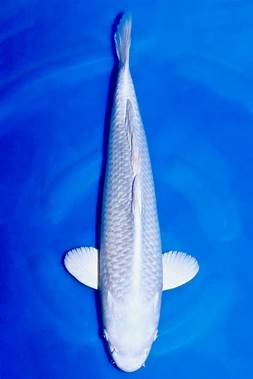white: (63, 10, 200, 373)
